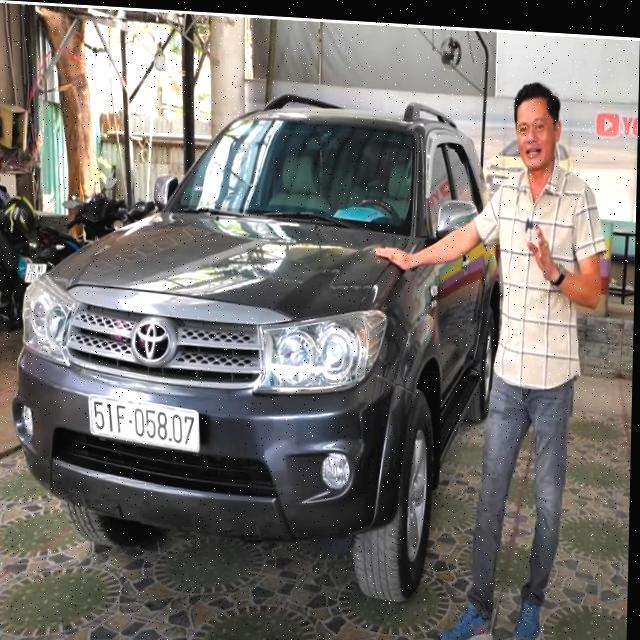car: (0, 85, 550, 572)
motorcycle: (0, 178, 59, 369)
plate: (83, 394, 205, 456)
